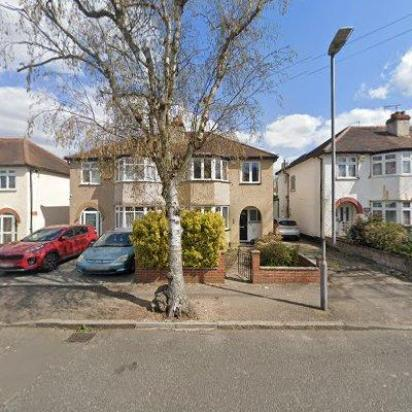stationary-car-offstreet: (0, 223, 98, 273), (75, 227, 139, 276), (274, 215, 300, 238)
